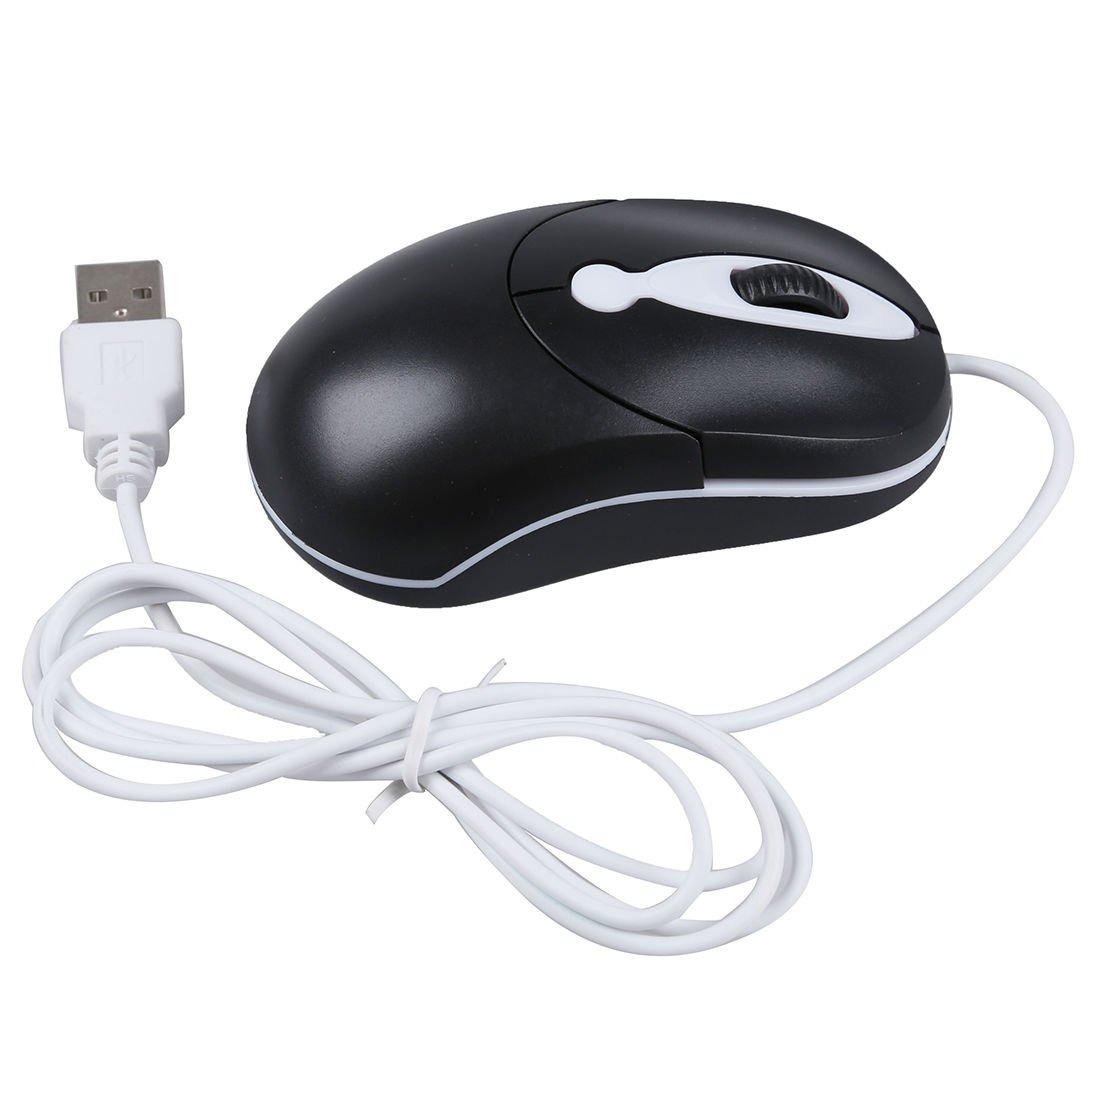mouse: (232, 187, 968, 629)
